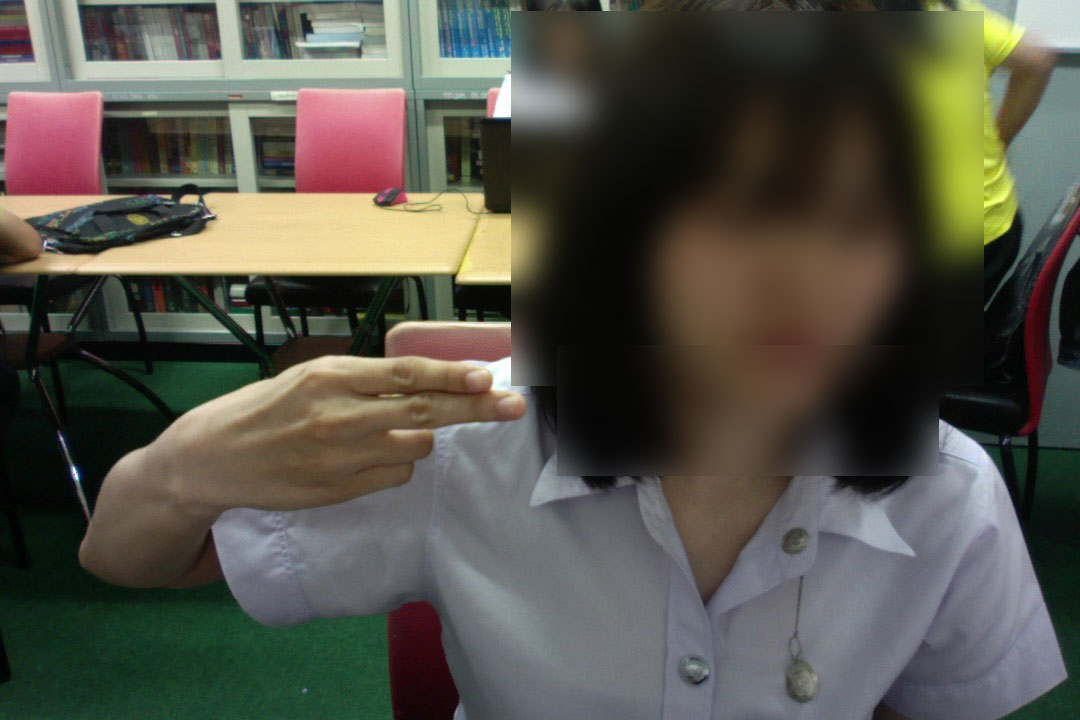hor: (151, 349, 537, 518)
